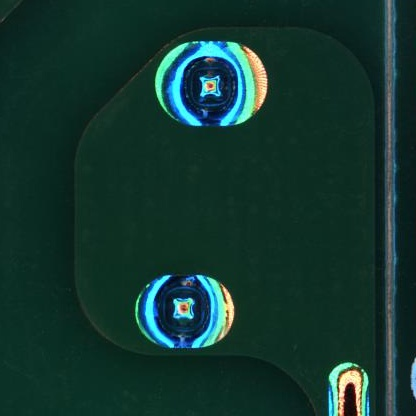spot: (155, 39, 268, 127), (133, 271, 236, 350)
